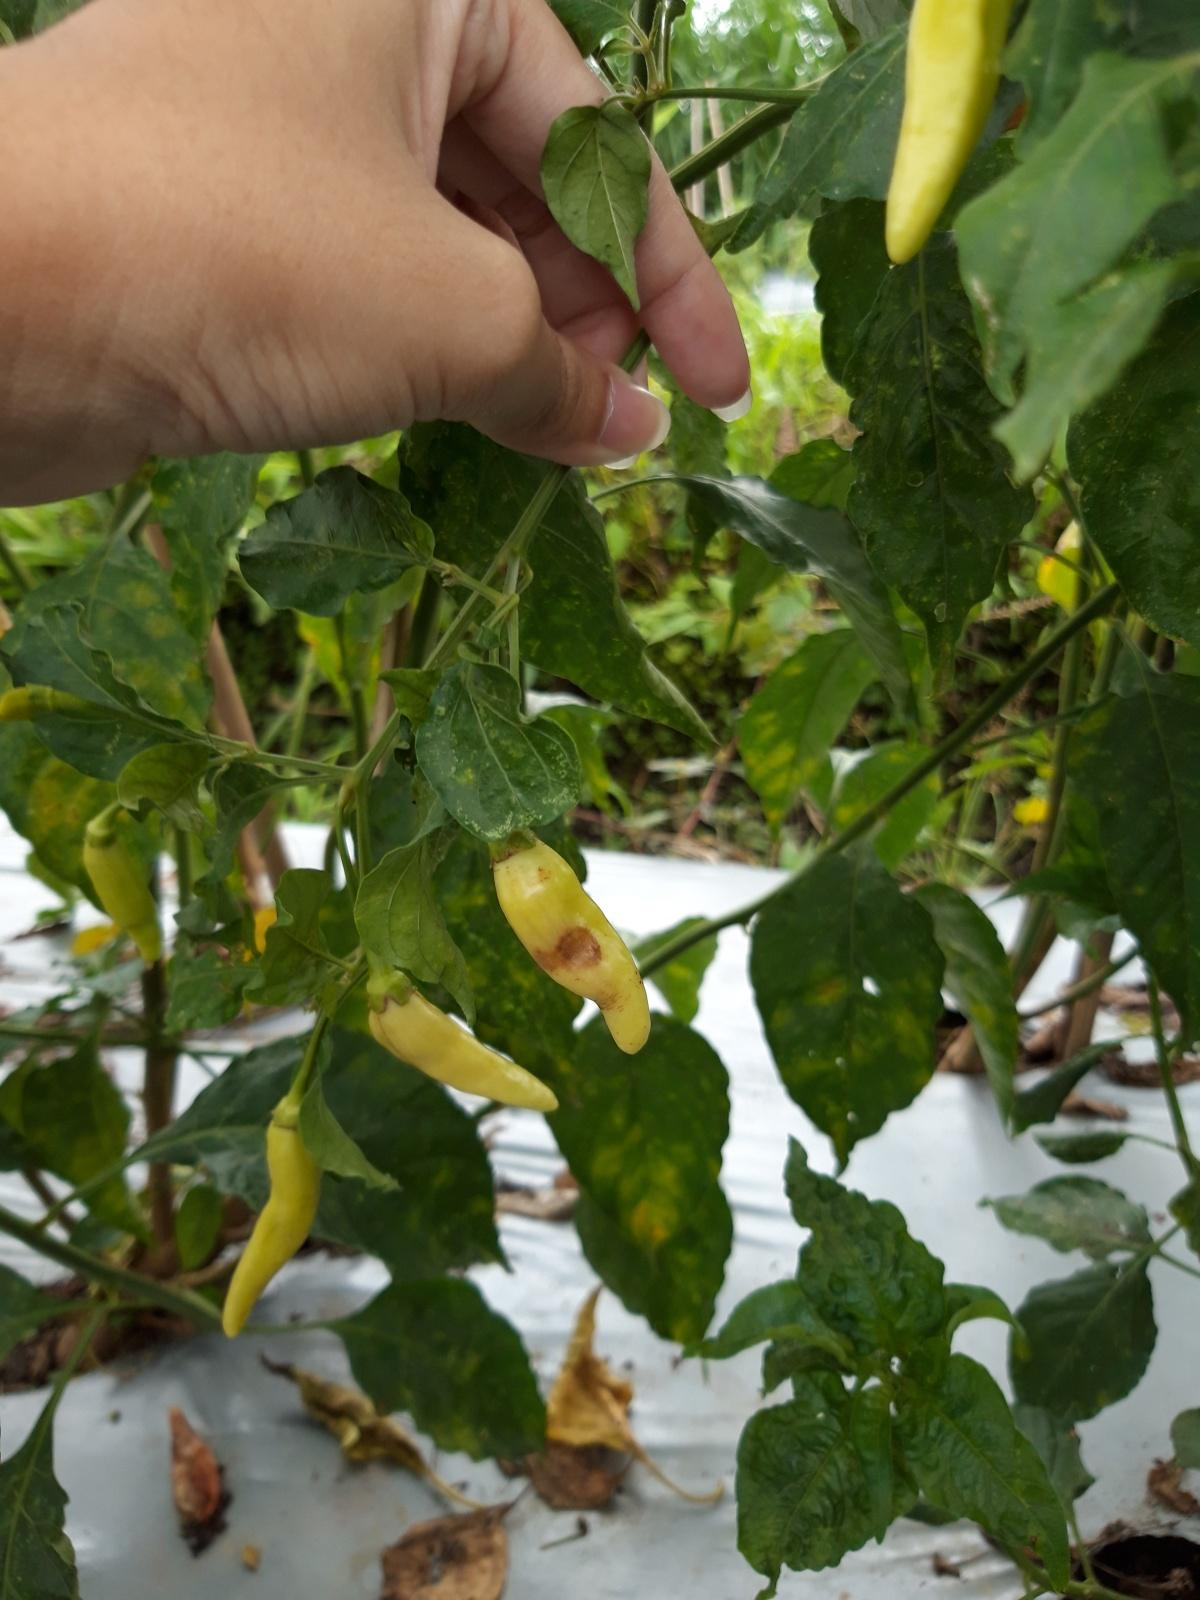cabai_normal: (885, 0, 1010, 265), (366, 970, 560, 1111), (221, 1096, 321, 1339), (82, 819, 161, 970)
lalat_buah: (489, 828, 652, 1056)
